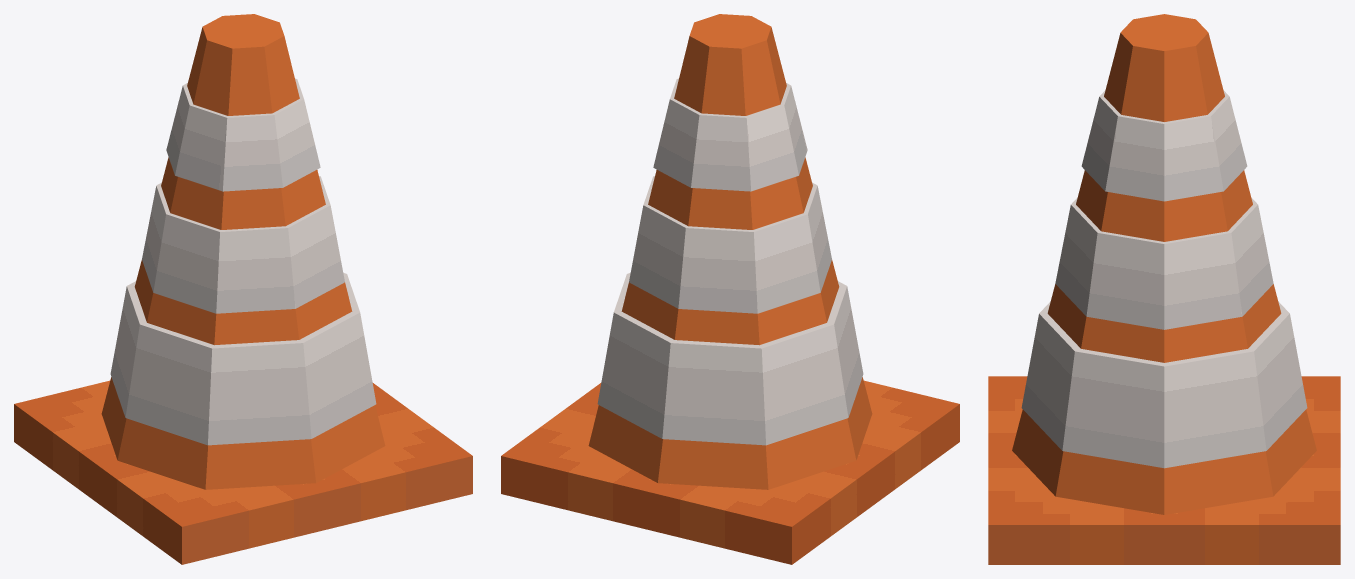
Rendered from conus.gltf.
3 views of the same model, side by side, from view 1: azimuth 30°, elevation 25°; view 2: azimuth 150°, elevation 25°; view 3: azimuth 270°, elevation 25° (orthographic). The views are drawn at different scales.
Visible parts, largest first — view 1: cuboid (×5); view 2: cuboid (×5); view 3: cuboid (×5).
Part boxes in pixels (bbox=[...]): cuboid (×5): bbox=[14, 14, 472, 564]; cuboid (×5): bbox=[501, 14, 959, 564]; cuboid (×5): bbox=[988, 14, 1340, 564].
Bounding box in the file's own units: 0.79 × 1.13 × 0.79.
Materials: 1 (1 with a texture image).
